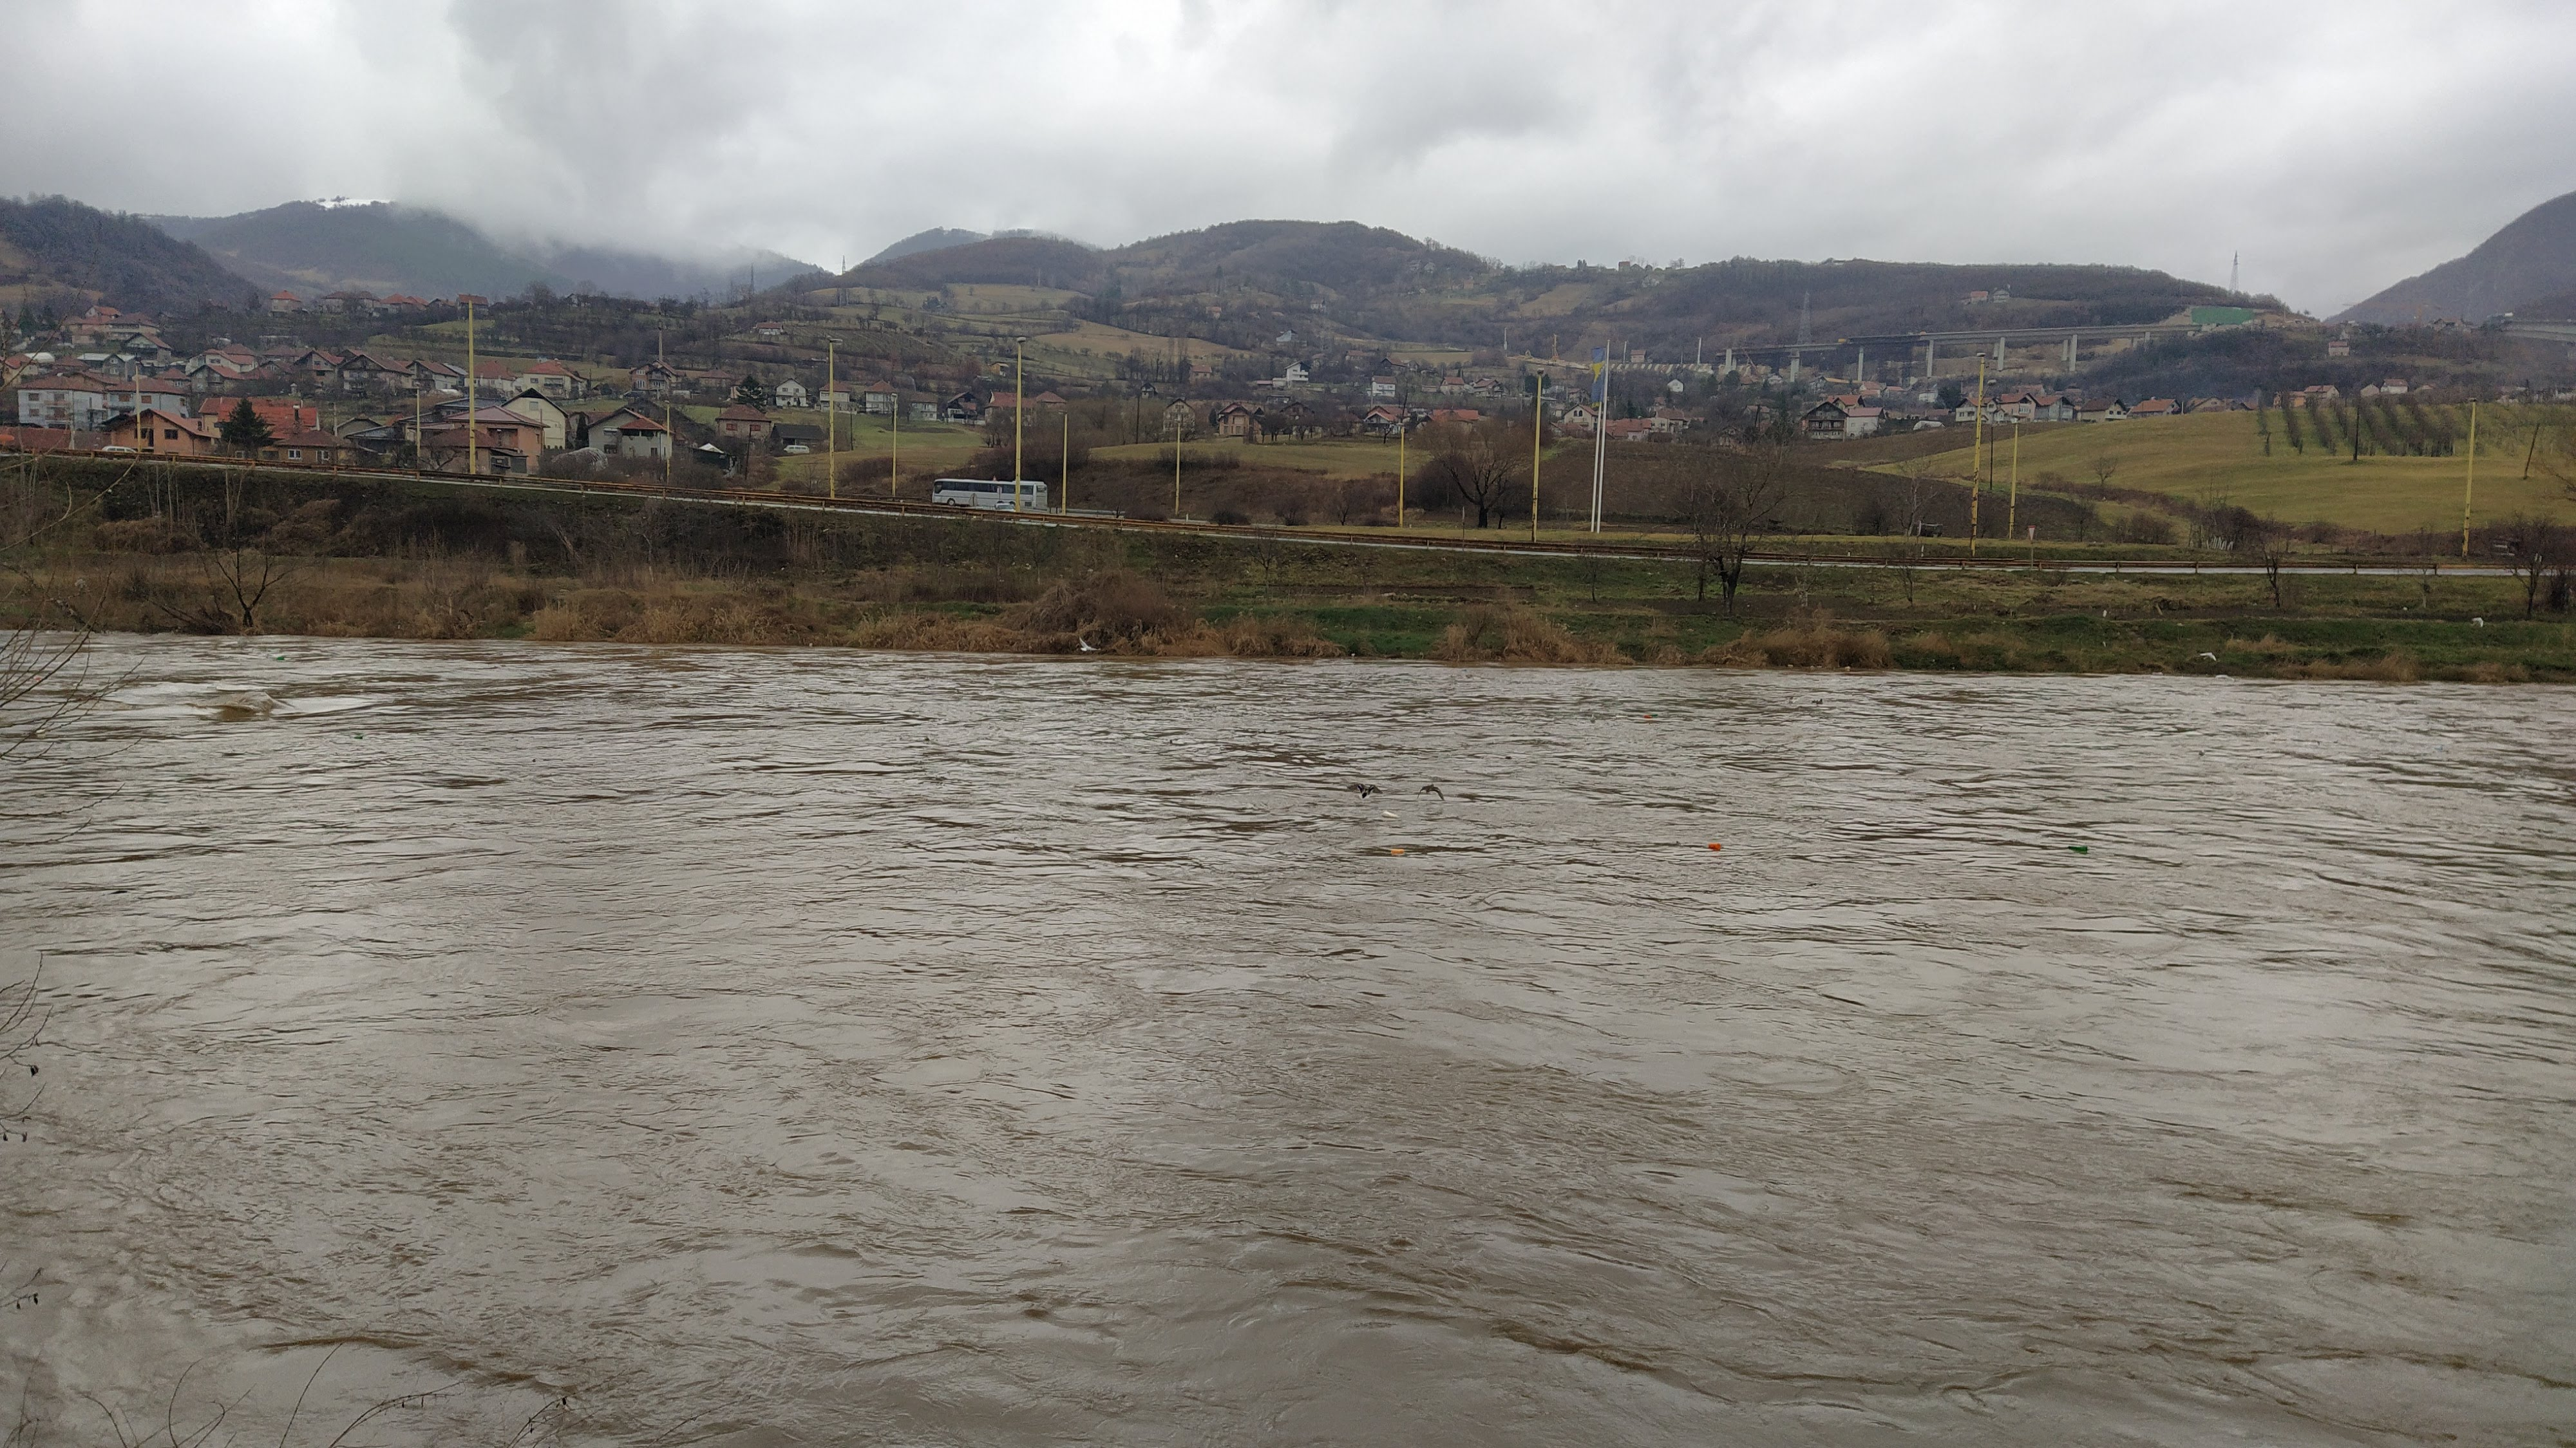Plastic Bottle: (2068, 844, 2088, 851), (1382, 809, 1398, 816), (1389, 848, 1405, 853), (1707, 843, 1720, 848), (35, 728, 44, 733), (2436, 745, 2443, 751), (354, 735, 361, 738), (278, 655, 283, 659), (34, 676, 37, 680), (1645, 715, 1652, 717), (1651, 713, 1656, 715)
